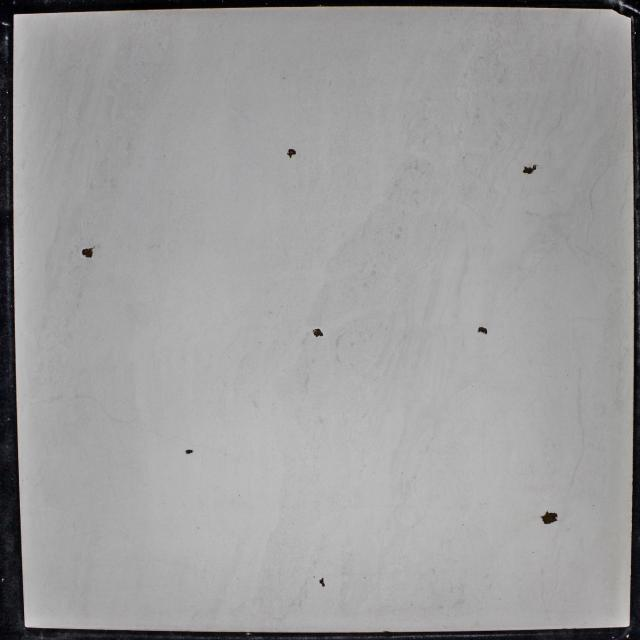edge-chipping: (612, 9, 631, 18)
hole: (540, 510, 558, 526), (521, 164, 538, 175), (81, 246, 95, 258), (477, 326, 489, 336), (312, 328, 324, 338), (287, 148, 296, 159), (318, 577, 324, 587), (183, 448, 191, 453)
